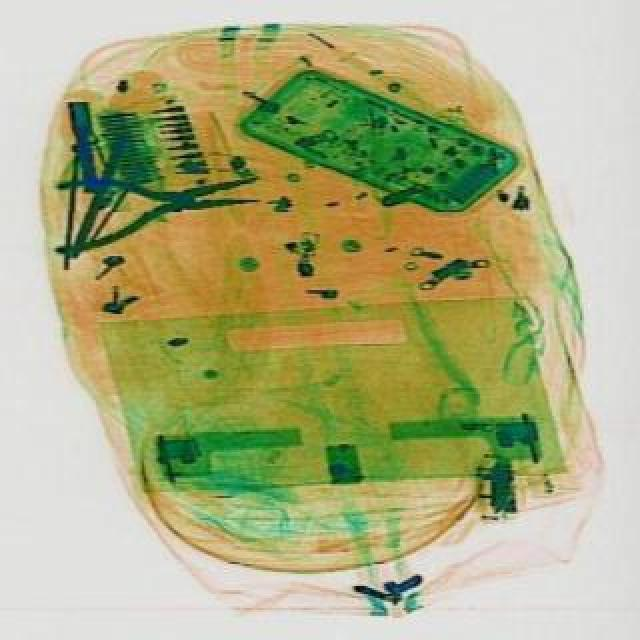wrench: (48, 154, 270, 258)
